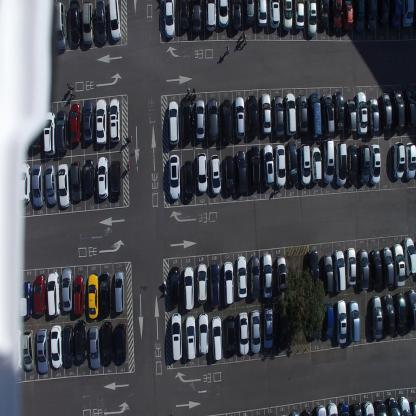car: (52, 0, 69, 52), (308, 92, 322, 138), (334, 141, 348, 186), (49, 324, 63, 369), (108, 96, 121, 144), (31, 163, 45, 207), (81, 1, 95, 44), (382, 293, 396, 336), (55, 109, 69, 152), (36, 327, 49, 373), (170, 312, 182, 361), (370, 294, 383, 339), (57, 163, 70, 208), (47, 271, 60, 316), (180, 96, 192, 144), (87, 272, 99, 320), (321, 92, 334, 136), (95, 0, 108, 44), (113, 269, 126, 313), (101, 320, 114, 364), (88, 325, 101, 369), (74, 319, 87, 363), (108, 0, 122, 40), (402, 236, 416, 276), (355, 91, 368, 134), (307, 249, 320, 292), (333, 249, 346, 292), (168, 154, 180, 200), (185, 314, 197, 360), (210, 315, 222, 361), (322, 139, 334, 185), (69, 0, 81, 46), (100, 271, 112, 317), (394, 294, 407, 336), (70, 160, 83, 202), (18, 162, 31, 204), (33, 274, 46, 316), (183, 266, 195, 311), (168, 100, 180, 145), (221, 97, 233, 142), (249, 145, 261, 190), (310, 297, 322, 342), (43, 111, 55, 156), (321, 253, 334, 294), (22, 329, 35, 370), (237, 311, 249, 355), (260, 91, 272, 135), (284, 92, 296, 136), (274, 143, 286, 187), (286, 141, 298, 185), (299, 142, 311, 186), (393, 243, 405, 287), (30, 108, 42, 152), (61, 268, 73, 312), (163, 0, 176, 40), (19, 280, 32, 320), (9, 330, 22, 370), (209, 262, 220, 309), (96, 98, 107, 145), (194, 98, 206, 141), (196, 262, 208, 305), (206, 98, 218, 141), (272, 95, 284, 138), (262, 143, 274, 186), (348, 299, 360, 342), (97, 156, 109, 199), (73, 273, 85, 316), (62, 324, 74, 367), (223, 260, 234, 306), (250, 308, 261, 354), (196, 151, 208, 193), (224, 314, 236, 356), (223, 154, 235, 196), (296, 93, 308, 135), (392, 88, 404, 130), (115, 322, 127, 364), (236, 149, 247, 194), (234, 95, 245, 140), (83, 99, 94, 144), (209, 154, 221, 195), (357, 248, 369, 289), (382, 247, 394, 288), (45, 163, 57, 204), (236, 254, 247, 298), (70, 101, 81, 145), (368, 96, 380, 136), (380, 91, 392, 131), (404, 140, 416, 180), (247, 94, 258, 137), (392, 140, 404, 179), (370, 143, 381, 185), (262, 252, 272, 298), (336, 299, 346, 345), (275, 255, 287, 293), (310, 146, 322, 184), (83, 157, 95, 195), (277, 311, 288, 352), (359, 144, 370, 185), (110, 159, 121, 200), (345, 97, 357, 134), (170, 266, 181, 306), (250, 256, 260, 300), (347, 144, 358, 184), (370, 248, 381, 288), (198, 312, 208, 355), (263, 306, 273, 349), (184, 158, 194, 200), (406, 288, 416, 330), (306, 0, 317, 38), (345, 247, 356, 285), (405, 88, 415, 129), (324, 300, 334, 341), (191, 0, 203, 34), (353, 0, 365, 34), (334, 91, 344, 131), (205, 0, 217, 33), (317, 0, 329, 32), (268, 0, 281, 28), (366, 0, 378, 30), (179, 0, 190, 31), (282, 0, 293, 31), (331, 0, 342, 31), (343, 0, 353, 34), (402, 0, 414, 28), (231, 0, 242, 30), (294, 0, 305, 30), (390, 0, 402, 27), (244, 0, 256, 26), (218, 0, 229, 28), (386, 396, 402, 415), (397, 395, 412, 415), (257, 0, 268, 27), (379, 0, 389, 26), (362, 400, 375, 416), (374, 400, 387, 415), (338, 401, 350, 415), (326, 402, 338, 416), (351, 403, 362, 415), (315, 404, 327, 415), (410, 400, 416, 415), (302, 408, 312, 416), (290, 409, 300, 415), (278, 411, 288, 415)
